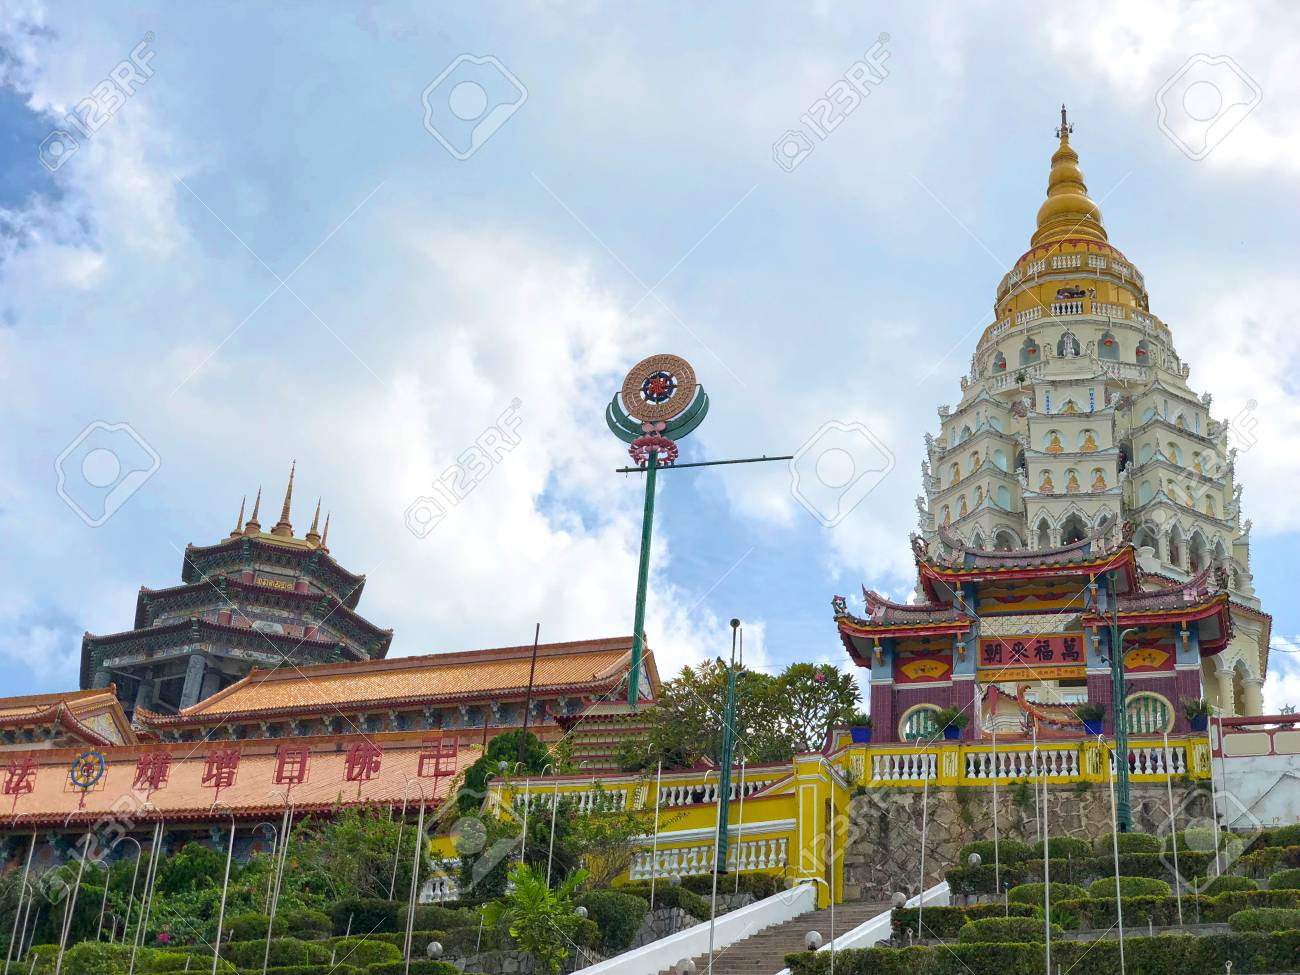Buddhist Temple: (843, 94, 1244, 750)
